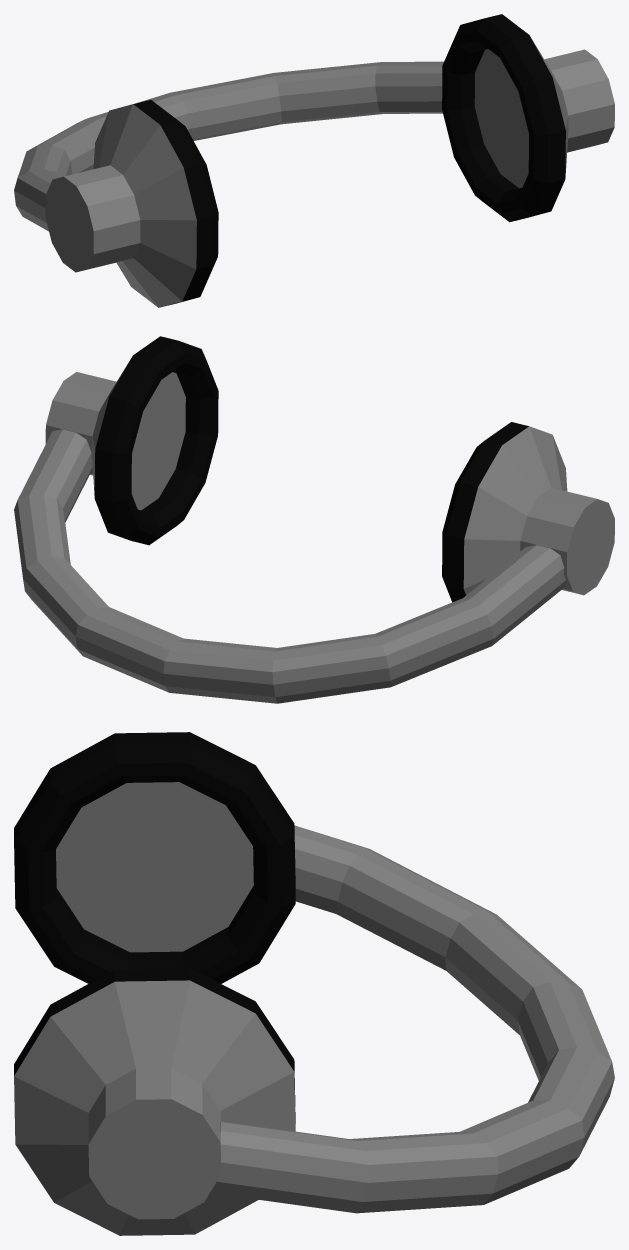
The model's file is Headphones.fbx.
3 renders of one model, top to bottom at view 1: azimuth 30°, elevation 25°; view 2: azimuth 150°, elevation 25°; view 3: azimuth 270°, elevation 25°, orthographic. The views are drawn at different scales.
Parts seen in each view (by area): view 1: Cylinder; view 2: Cylinder; view 3: Cylinder.
Part boxes in pixels (bbox=[...]): Cylinder: bbox=[14, 14, 614, 307]; Cylinder: bbox=[14, 336, 614, 703]; Cylinder: bbox=[14, 732, 614, 1235].
Bounding box in the file's own units: 15 × 5.11 × 10.86.
